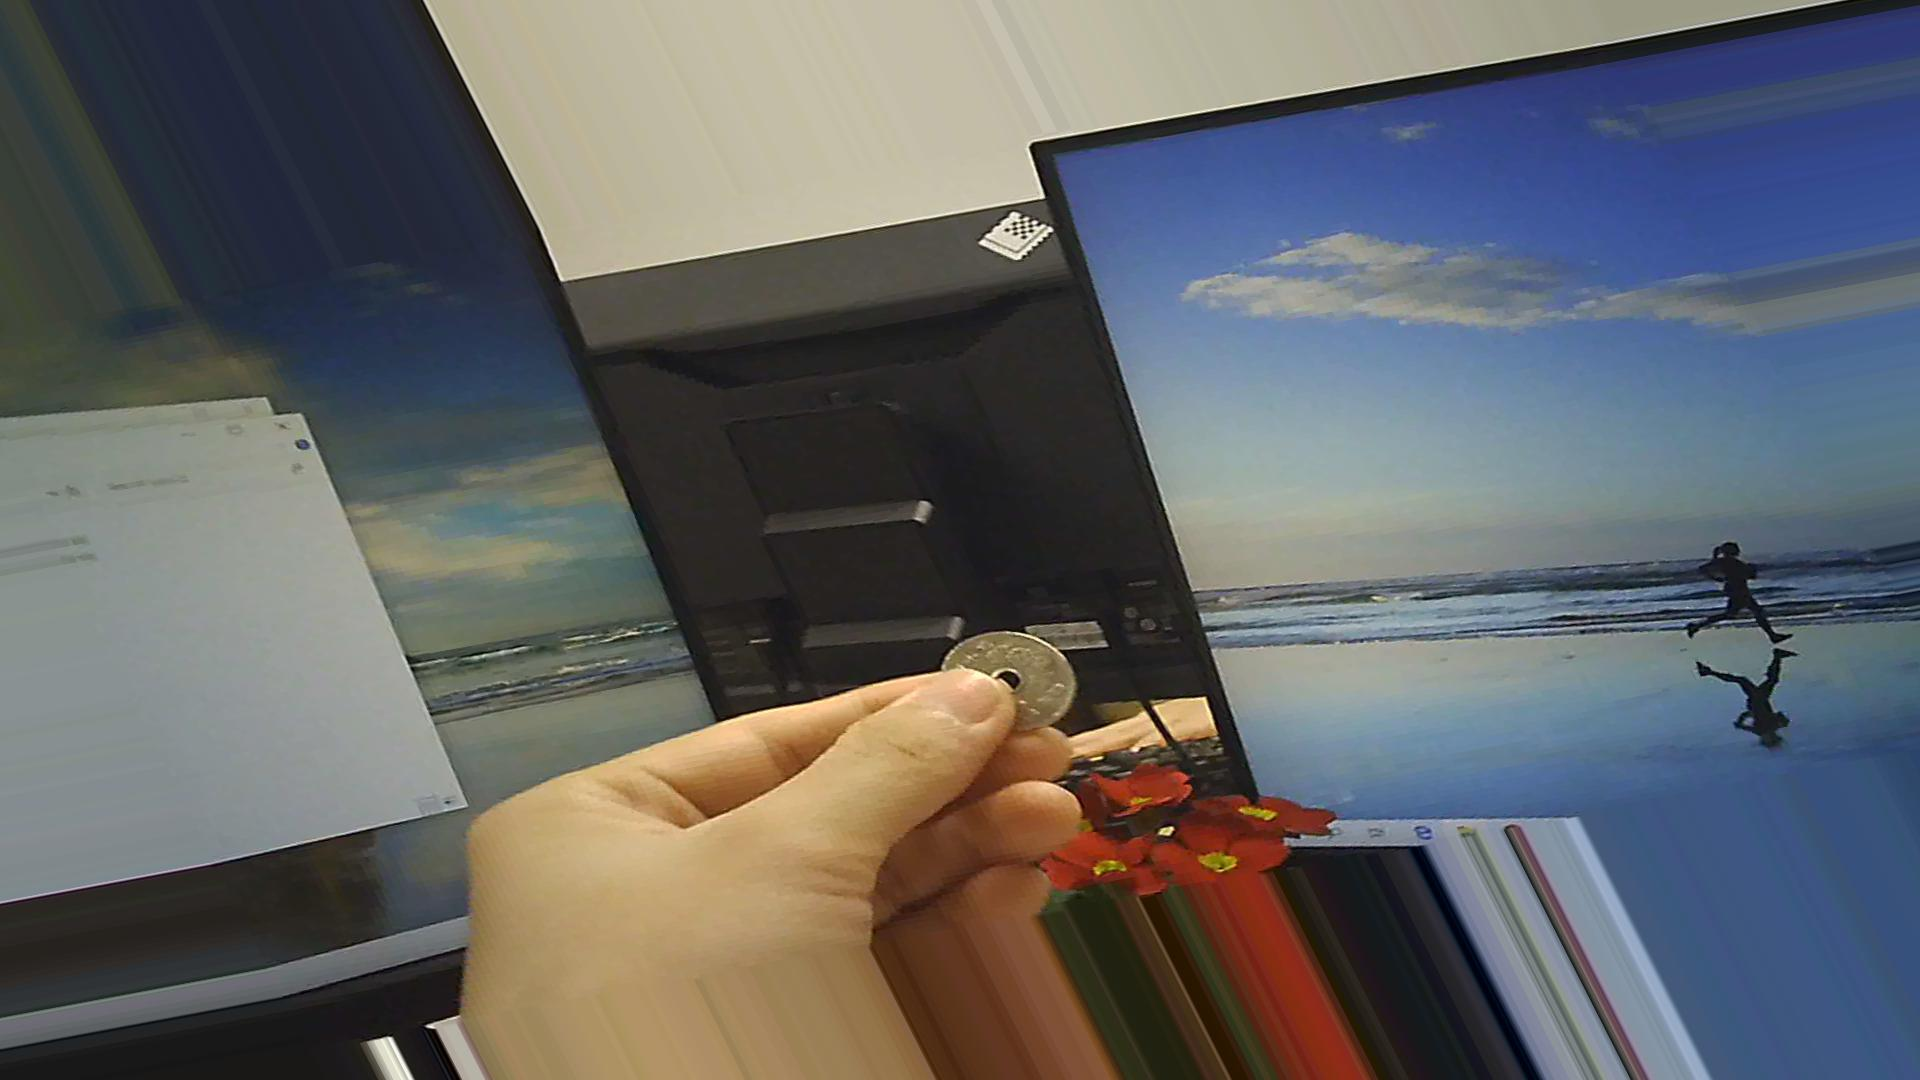50 Yen: (938, 637, 1075, 745)
